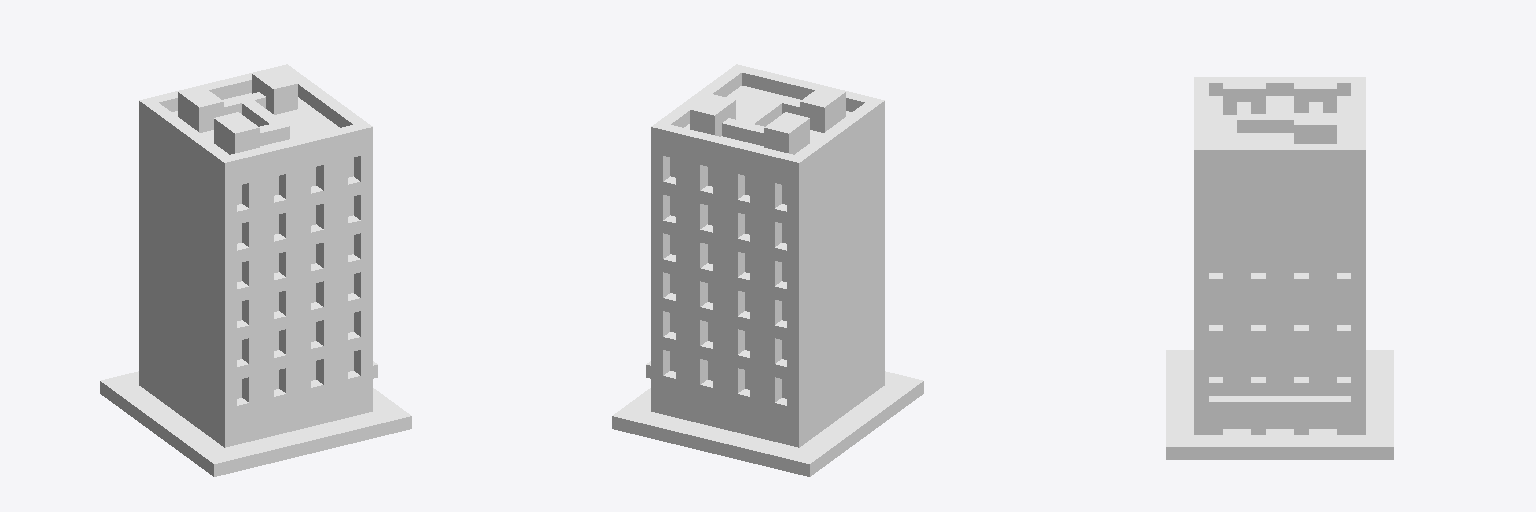
Rendered from House9.obj.
3 renders of one model, left to right at view 1: azimuth 30°, elevation 25°; view 2: azimuth 150°, elevation 25°; view 3: azimuth 270°, elevation 25°, orthographic.
Bounding box in the file's own units: 16 × 24 × 16.